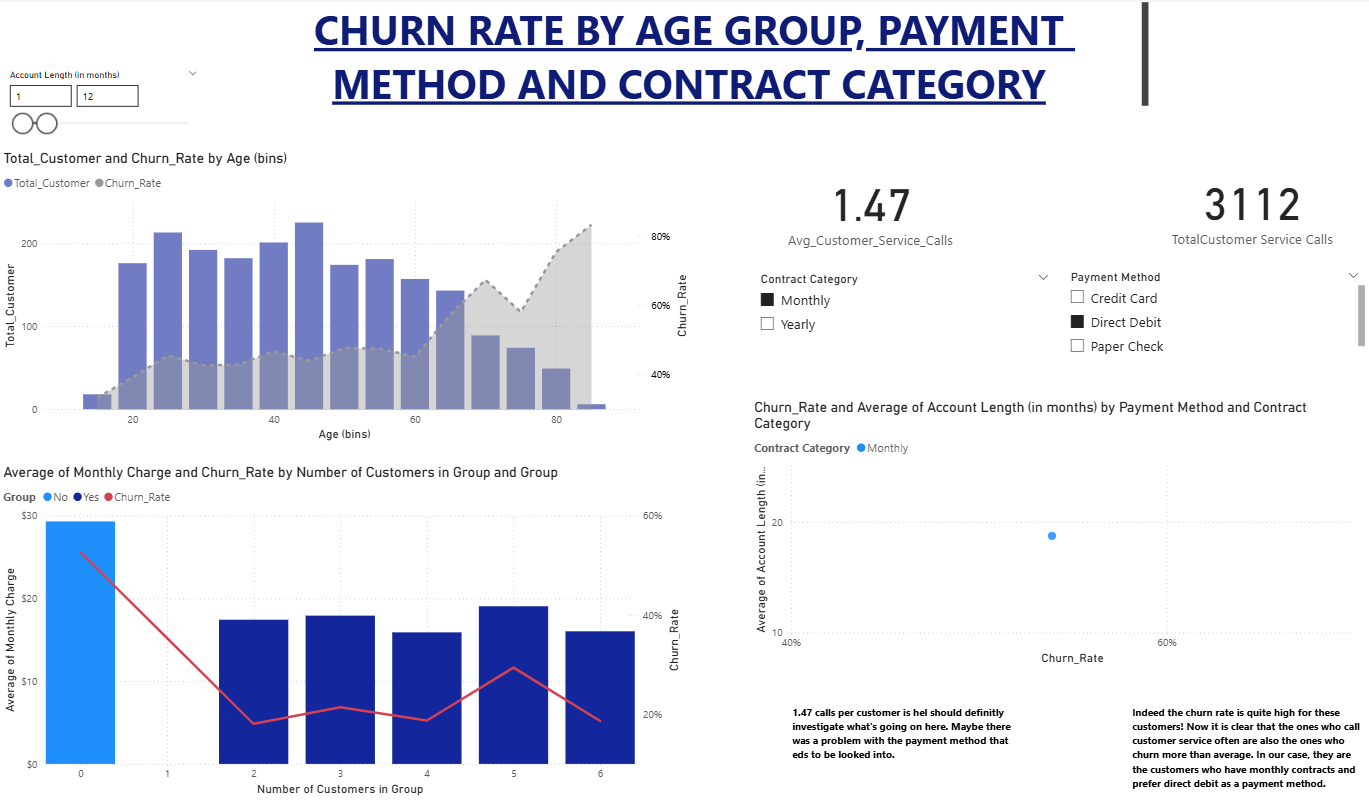

This screenshot's page, from the dashboard's own definition file:
{"tool":"powerbi","page":{"name":"Age Groups, Payment and Contract","canvas":[1640,960],"ordinal":2},"visuals":[{"type":"lineStackedColumnComboChart","fields":{"Category":["Databel - Data.Number of Customers in Group"],"Y2":["Databel - Data.Churn_Rate"],"Y":["Avg(Databel - Data.Monthly Charge)"],"Series":["Databel - Data.Group"]},"box":[0,558.3,820,402.3],"z":0},{"type":"slicer","fields":{"Values":["Databel - Data.Account Length (in months)"]},"box":[0,80.7,249.2,116.9],"z":1000},{"type":"lineStackedColumnComboChart","fields":{"Y":["Databel - Data.Total_Customer"],"Y2":["Databel - Data.Churn_Rate"],"Category":["Databel - Data.Age (bins)"]},"box":[0,182.4,829.7,353.6],"z":2000},{"type":"textbox","box":[278.9,0,1102.4,152],"z":3000},{"type":"card","fields":{"Values":["Sum(Databel - Data.Customer Service Calls)"]},"box":[1361.6,179.6,278.4,140.6],"z":4000},{"type":"card","fields":{"Values":["Databel - Data.Avg_Customer_Service_Calls"]},"box":[899.4,182.4,288.2,137.8],"z":5000},{"type":"scatterChart","fields":{"X":["Databel - Data.Churn_Rate"],"Y":["Databel - Data.Account Length (in months)"],"Category":["Databel - Data.Payment Method"],"Series":["Databel - Data.Contract Category"]},"box":[899.4,480.3,740.6,323],"z":6000},{"type":"slicer","fields":{"Values":["Databel - Data.Contract Category"]},"box":[899.4,323,370.3,119.7],"z":7000},{"type":"slicer","fields":{"Values":["Databel - Data.Payment Method"]},"box":[1269.7,320.2,370.3,112.8],"z":8000},{"type":"textbox","box":[1351.8,840.9,288.2,119.7],"z":9000},{"type":"textbox","box":[943.9,840.9,279.8,119.7],"z":10000}]}

Visuals, with their boxes in screenshot pixels (x1, y1, x2, y2), scaled from the page's 1640x960 canvas onto the 1369x800 screenshot:
lineStackedColumnComboChart - Databel - Data.Number of Customers in Group x Databel - Data.Churn_Rate: x1=0 y1=465 x2=684 y2=799
slicer - Databel - Data.Account Length (in months): x1=0 y1=67 x2=208 y2=165
lineStackedColumnComboChart - Databel - Data.Total_Customer x Databel - Data.Churn_Rate: x1=0 y1=152 x2=693 y2=447
textbox: x1=233 y1=0 x2=1153 y2=127
card - Sum(Databel - Data.Customer Service Calls): x1=1137 y1=150 x2=1368 y2=267
card - Databel - Data.Avg_Customer_Service_Calls: x1=751 y1=152 x2=991 y2=267
scatterChart - Databel - Data.Churn_Rate x Databel - Data.Account Length (in months): x1=751 y1=400 x2=1368 y2=669
slicer - Databel - Data.Contract Category: x1=751 y1=269 x2=1060 y2=369
slicer - Databel - Data.Payment Method: x1=1060 y1=267 x2=1368 y2=361
textbox: x1=1128 y1=701 x2=1368 y2=799
textbox: x1=788 y1=701 x2=1021 y2=799
